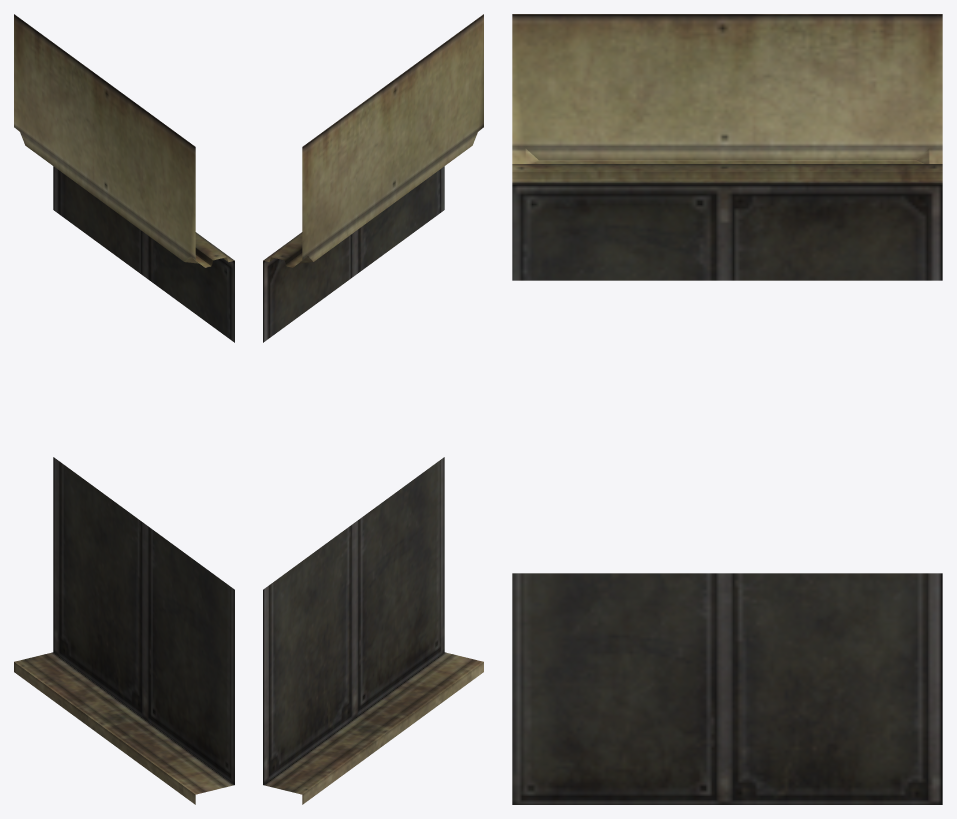
Rendered from pplant_ground_short_tunnel_exit.dae.
3 renders of one model, left to right at view 1: azimuth 30°, elevation 25°; view 2: azimuth 150°, elevation 25°; view 3: azimuth 270°, elevation 25°, orthographic. The views are drawn at different scales.
Parts seen in each view (by area): view 1: ground_short_tunnel_exit; view 2: ground_short_tunnel_exit; view 3: ground_short_tunnel_exit.
Part boxes in pixels (<box>): ground_short_tunnel_exit: <box>14,14,234,804</box>; ground_short_tunnel_exit: <box>263,14,483,804</box>; ground_short_tunnel_exit: <box>512,14,942,804</box>.
Bounding box in the file's own units: 0.25 × 4 × 2.
